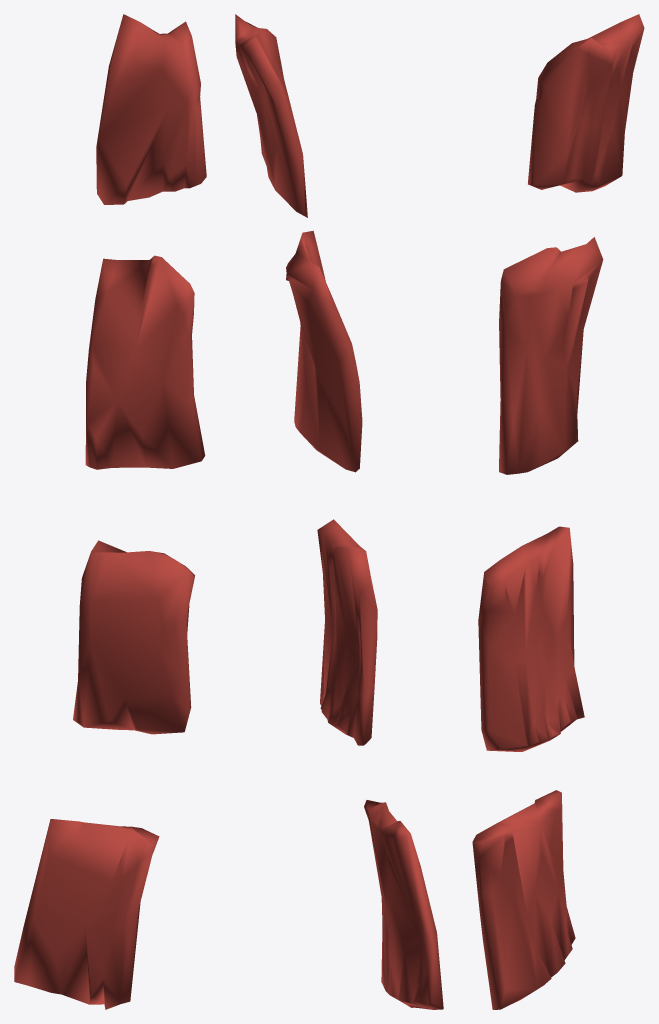
File: musculos-ventral-parts-of-lateral-intertransversarii-lumborum-muscles-r.glb
The picture shows the model from 3 angles, left to right: view 1: azimuth 30°, elevation 25°; view 2: azimuth 150°, elevation 25°; view 3: azimuth 270°, elevation 25°; orthographic projection. The views are drawn at different scales.
Visible parts, largest first — view 1: Ventral parts of lateral intertransversarii lumborum muscles; view 2: Ventral parts of lateral intertransversarii lumborum muscles; view 3: Ventral parts of lateral intertransversarii lumborum muscles.
Part boxes in pixels (x1=…): Ventral parts of lateral intertransversarii lumborum muscles: x1=14, y1=14, x2=206, y2=1009; Ventral parts of lateral intertransversarii lumborum muscles: x1=235, y1=14, x2=443, y2=1009; Ventral parts of lateral intertransversarii lumborum muscles: x1=472, y1=14, x2=644, y2=1009.
Size of the model in its own units: 0.0241 by 0.1164 by 0.0175.
